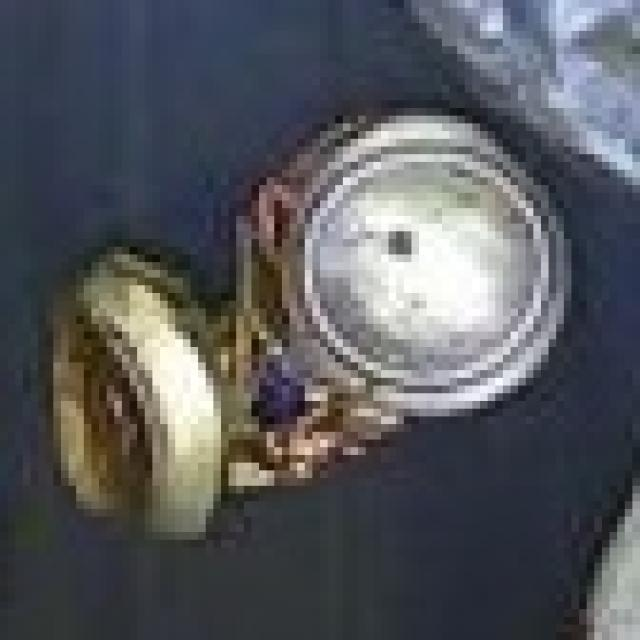litter: (277, 142, 556, 387)
